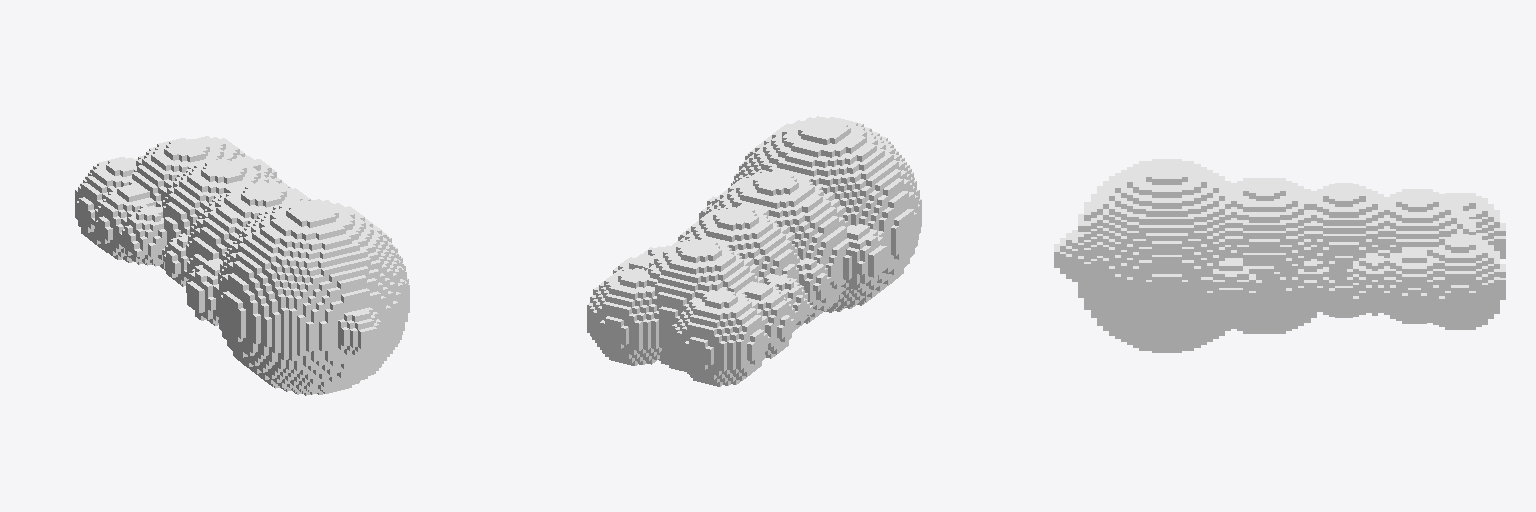
The model's file is TorsoDog.obj.
3 renders of one model, left to right at view 1: azimuth 30°, elevation 25°; view 2: azimuth 150°, elevation 25°; view 3: azimuth 270°, elevation 25°, orthographic.
Bounding box in the file's own units: 33 × 31 × 74.